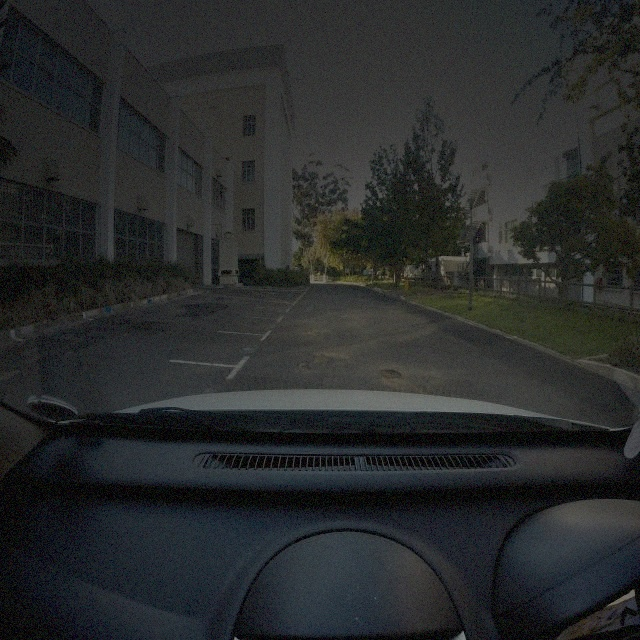pothole: (378, 368, 403, 382), (0, 366, 22, 380), (314, 353, 334, 363), (296, 361, 311, 373), (305, 329, 317, 336)
